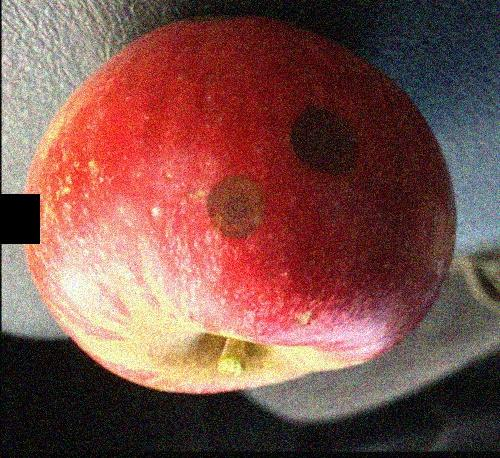rotten apple: (21, 14, 457, 392)
